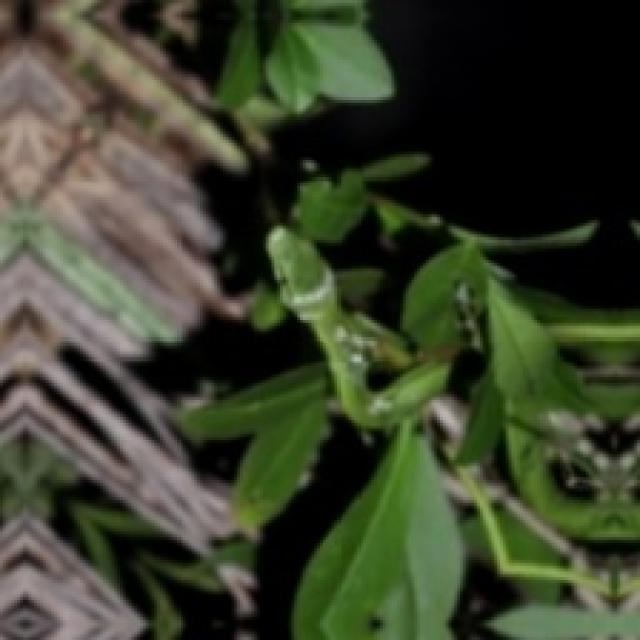red-tailed green ratsnake: (266, 228, 450, 429)
